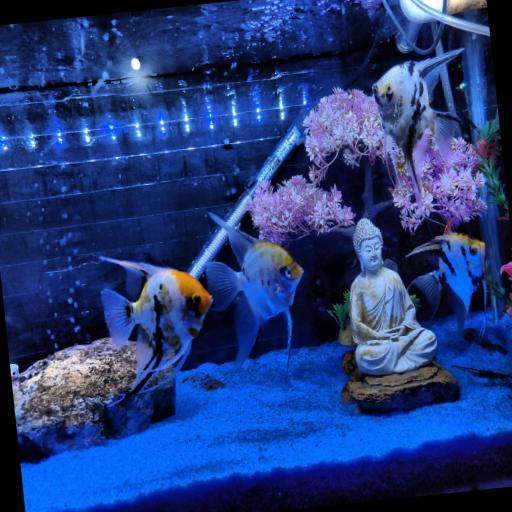Fish: (101, 257, 212, 399), (206, 213, 303, 374), (373, 48, 463, 209), (407, 232, 485, 334)
